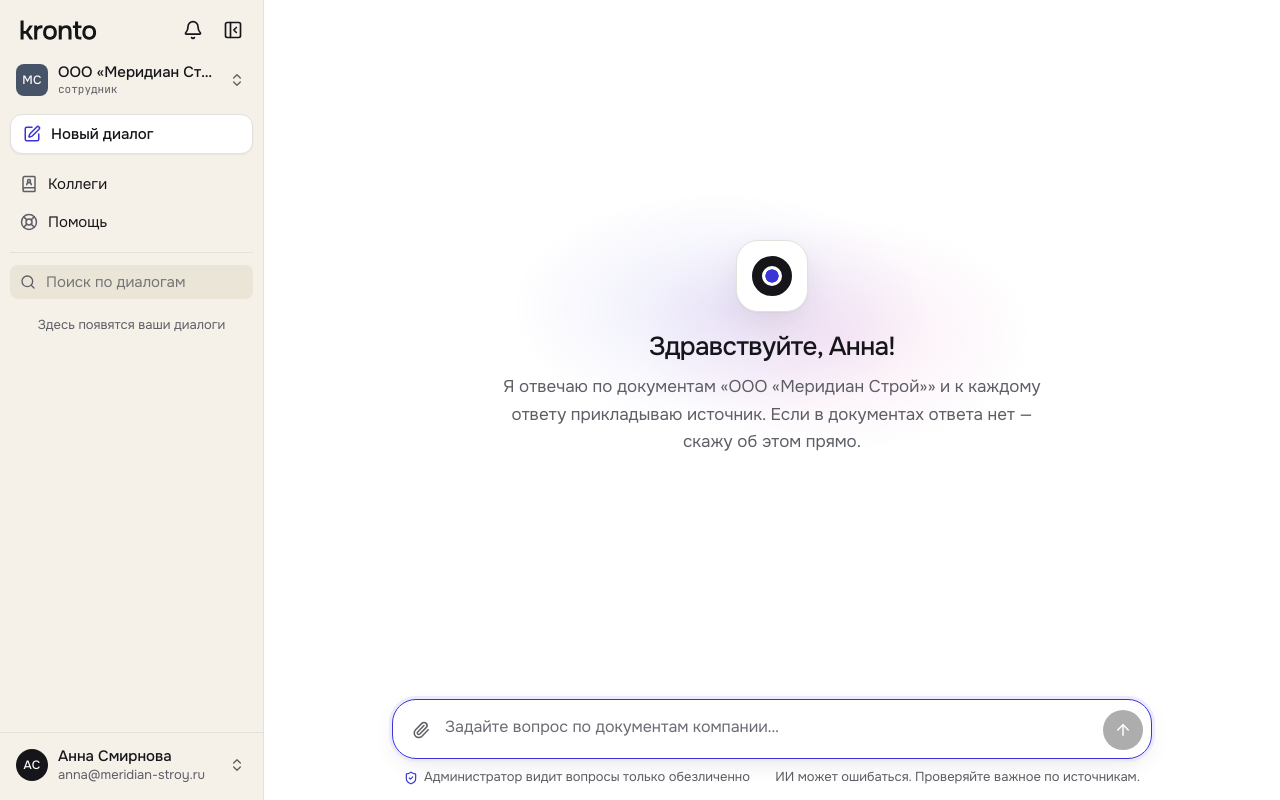
it: новый диалог › кредиты кончились — сообщение над полем, вопрос остаётся, можно попросить пополнить
The image size is (1280, 800).
Type "Вопрос" into the text box named "Ваш вопрос".
click(772, 729); type("Вопрос")  # box [393,700,1151,758]
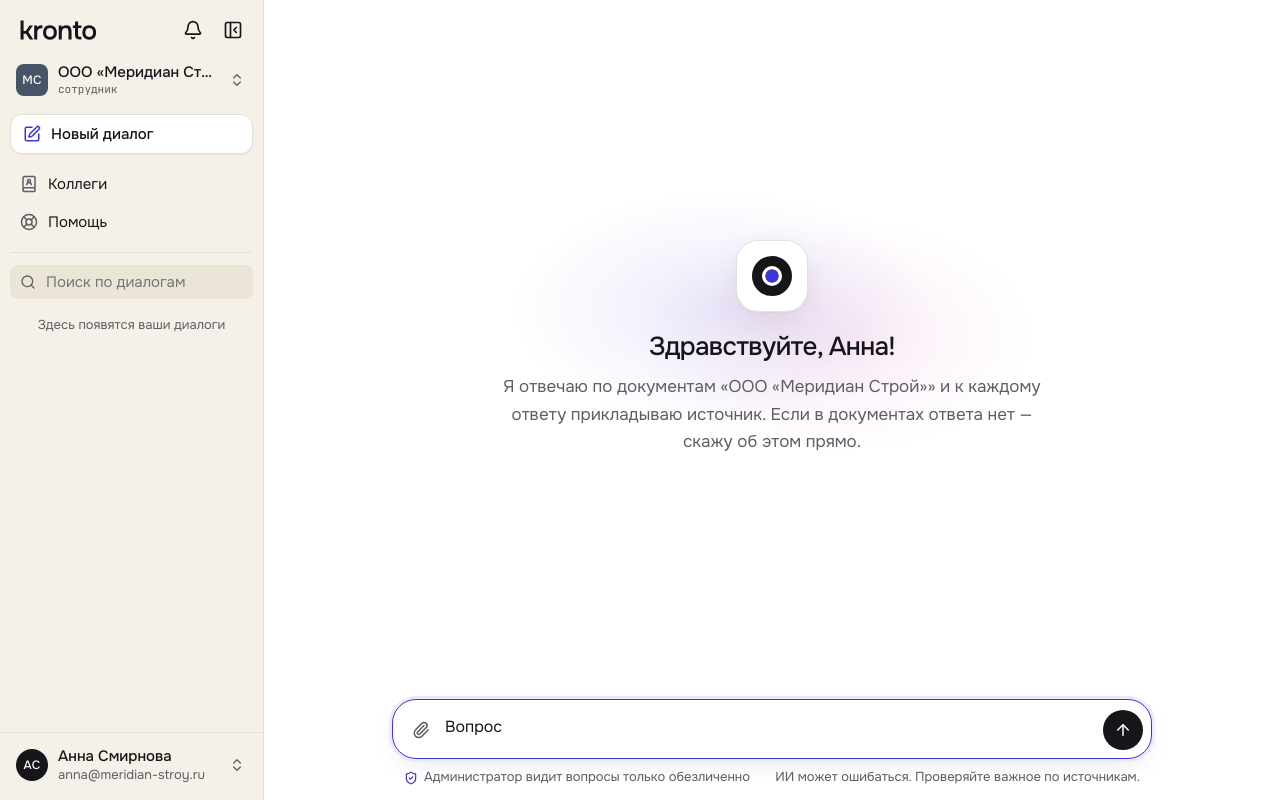
Press Enter
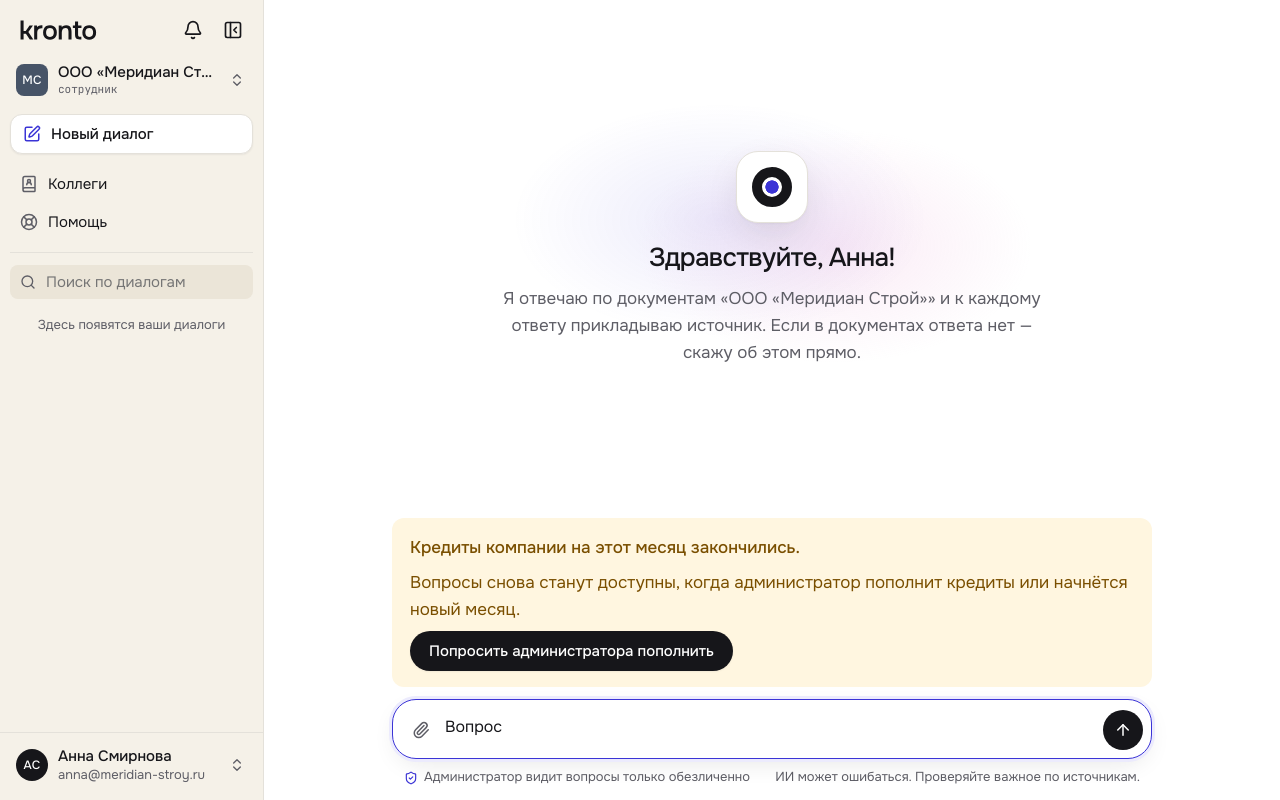
Expected: the text "Кредиты компании на этот месяц закончились." is shown, [410,534,800,561]
Click the button "Попросить администратора пополнить".
click(571, 651)  # box [410,631,733,671]
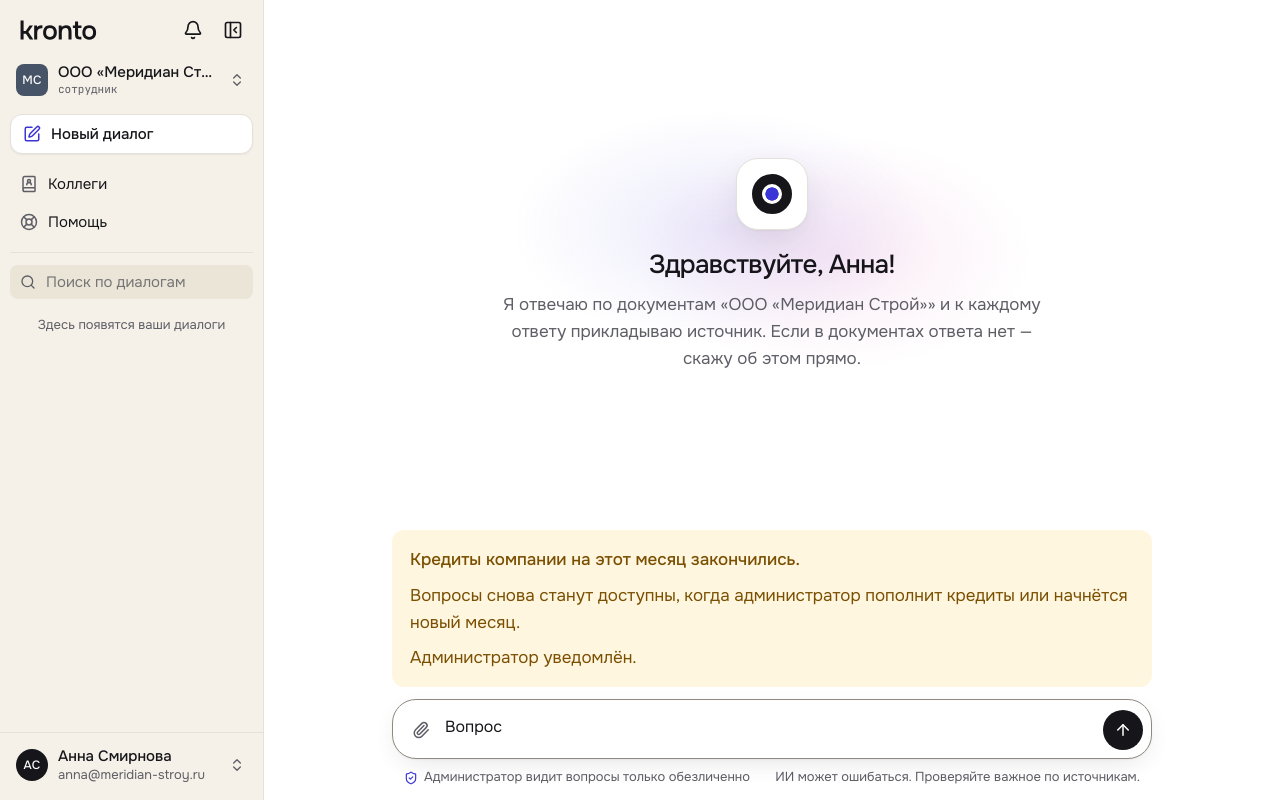
Expected: the text "Администратор уведомлён." is shown, [410,644,637,671]
